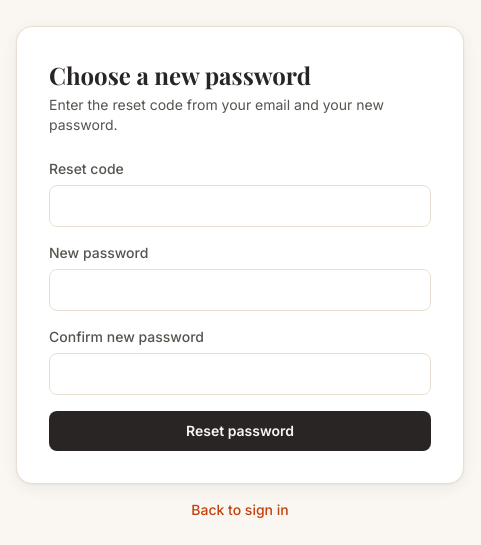
Test: ResetPasswordPage (BUG-02 regression) › rejects mismatched passwords
This screenshot has width=481, height=545.
Type "123456" into the field labelled "Reset code" at (240, 206), box [49,185,431,227]
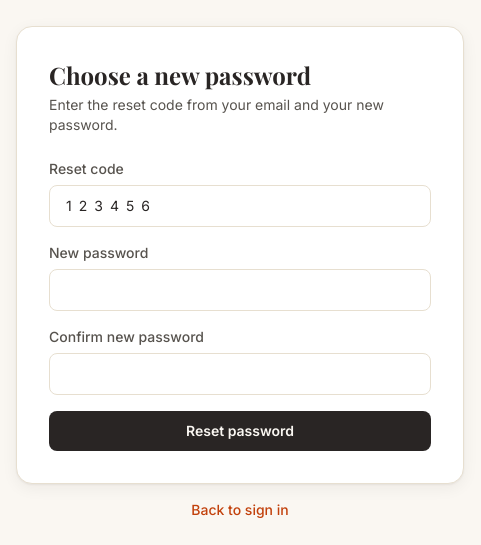
Type "Password1!" into the password field labelled "New password" at (240, 290), box [49,269,431,311]
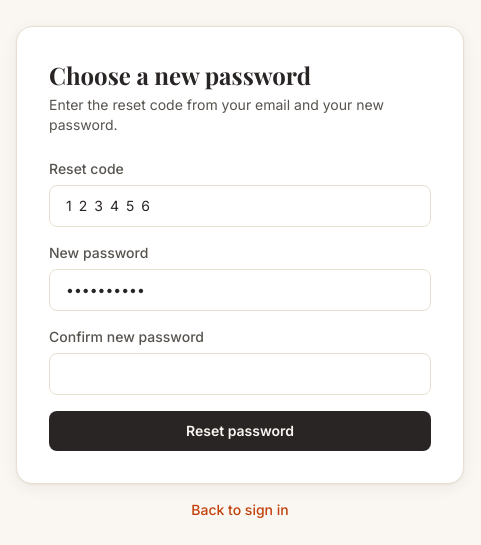
Type "Different1!" into the password field labelled "Confirm new password" at (240, 374), box [49,353,431,395]
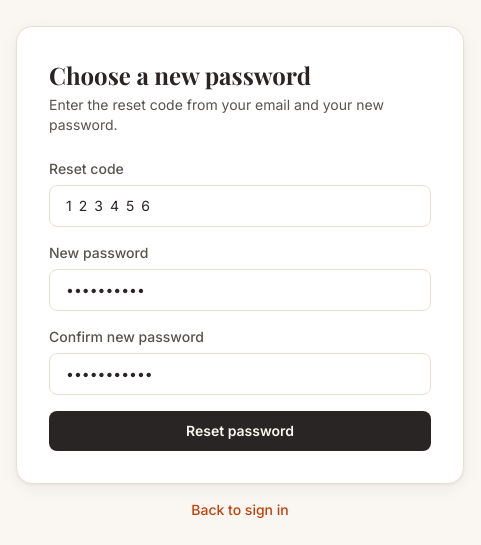
Click the button "Reset password" at (240, 431), box [49,411,431,451]
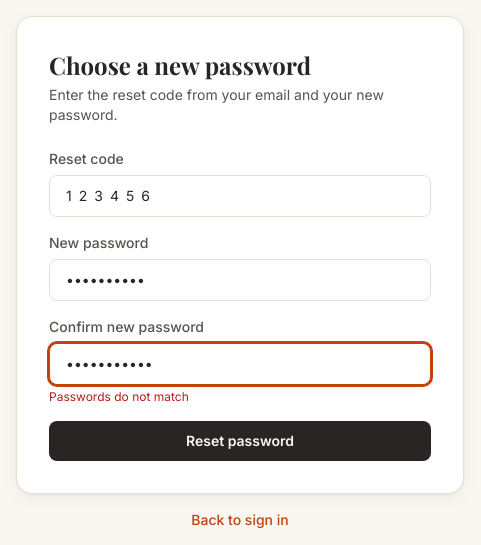
Now the text "Passwords do not match" is shown, box [49,389,189,404]
